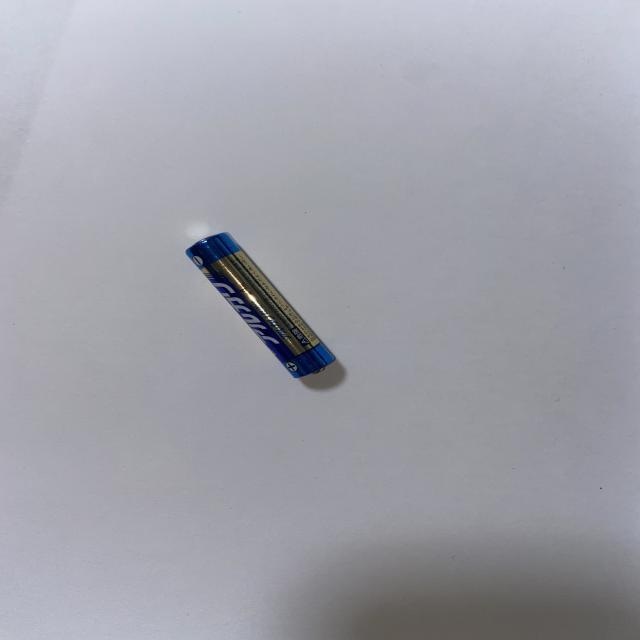Hazard: (180, 230, 340, 382)
